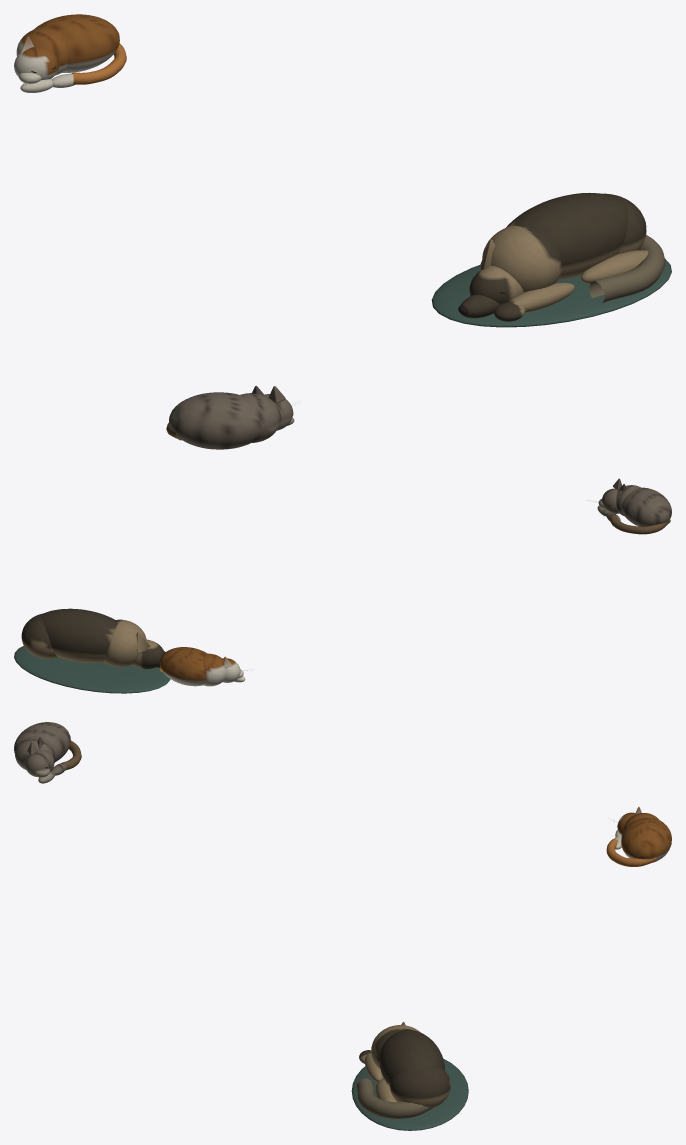
File: workshop-pets-fast.glb
The picture shows the model from 3 angles, top to bottom: view 1: azimuth 30°, elevation 25°; view 2: azimuth 150°, elevation 25°; view 3: azimuth 270°, elevation 25°; orthographic projection. The views are drawn at different scales.
Parts seen in each view (by area): view 1: Body, Dog cushion, Brown tabby resting Curled body, Chest, Orange tabby sleeping Curled body, Dog tail, Head, Hind leg, Orange tabby sleeping Resting head, Foreleg, Orange tabby sleeping Shoulder, Brown tabby resting Shoulder (+3 smaller); view 2: Dog cushion, Body, Brown tabby resting Curled body, Orange tabby sleeping Curled body, Chest, Haunch, Orange tabby sleeping Shoulder, Head, Brown tabby resting curled tail; view 3: Dog cushion, Body, Haunch, Orange tabby sleeping Curled body, Dog tail, Brown tabby resting Curled body.
Part boxes in pixels (<box>): Body: <box>506,192,628,280</box>; Dog cushion: <box>431,259,671,327</box>; Brown tabby resting Curled body: <box>169,392,261,449</box>; Chest: <box>482,225,562,292</box>; Orange tabby sleeping Curled body: <box>34,14,119,72</box>; Dog tail: <box>589,235,665,303</box>; Head: <box>469,266,523,304</box>; Hind leg: <box>581,250,648,283</box>; Orange tabby sleeping Resting head: <box>14,46,58,80</box>; Foreleg: <box>508,282,574,312</box>; Orange tabby sleeping Shoulder: <box>16,27,67,75</box>; Brown tabby resting Shoulder: <box>240,393,280,442</box>; Dog cushion: <box>14,646,170,693</box>; Body: <box>41,608,115,662</box>; Brown tabby resting Curled body: <box>621,487,671,526</box>; Orange tabby sleeping Curled body: <box>159,647,207,686</box>; Chest: <box>104,619,146,667</box>; Haunch: <box>21,614,57,658</box>; Orange tabby sleeping Shoulder: <box>203,653,225,686</box>; Head: <box>132,639,164,669</box>; Brown tabby resting curled tail: <box>609,515,670,534</box>; Dog cushion: <box>351,1058,468,1130</box>; Body: <box>379,1030,444,1086</box>; Haunch: <box>390,1065,450,1107</box>; Orange tabby sleeping Curled body: <box>621,818,671,860</box>; Dog tail: <box>356,1078,434,1118</box>; Brown tabby resting Curled body: <box>14,722,70,761</box>.
Bounding box in the file's own units: 4.61 × 1.38 × 4.94.
